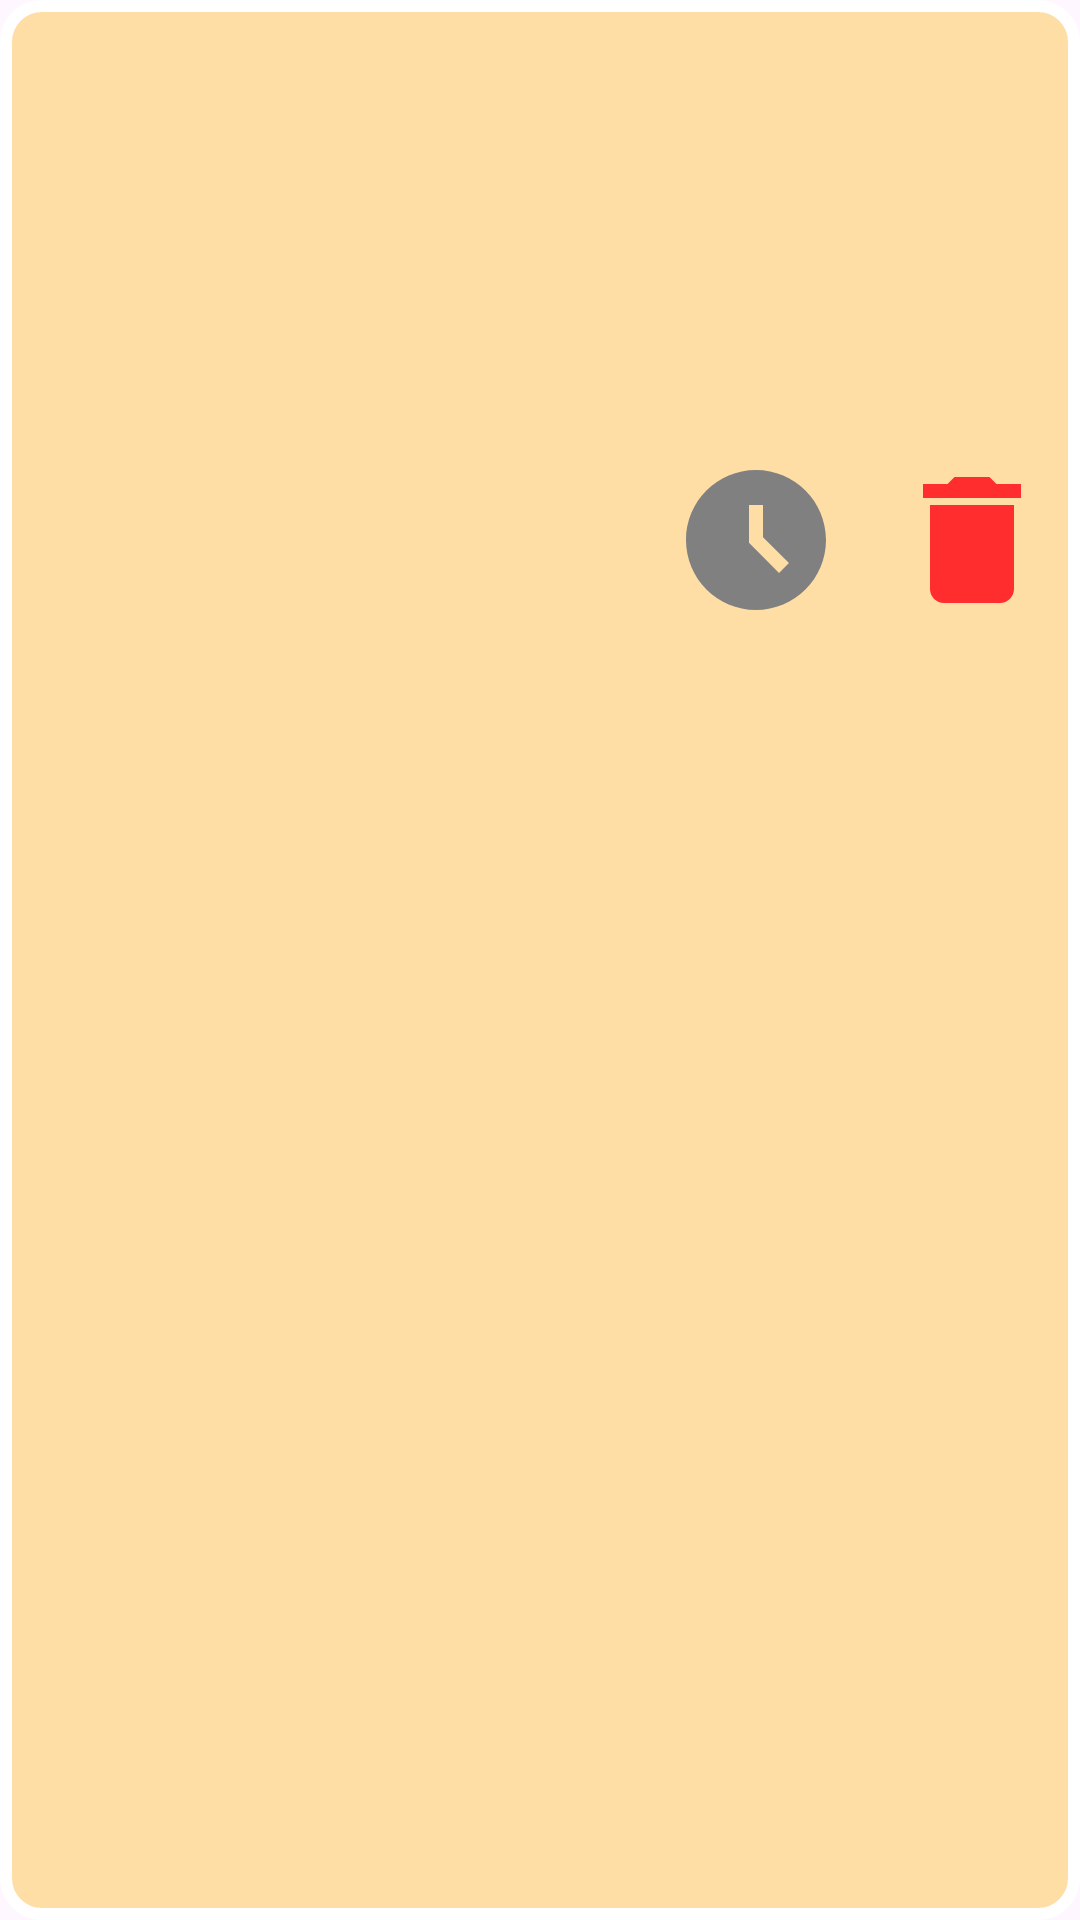

Icon bounding boxes for this 1080px x 1920px phone screenshot, format [x1=x1, y1=y1, x2=x2, y2=y2]:
clock: [x1=686, y1=470, x2=826, y2=610]
